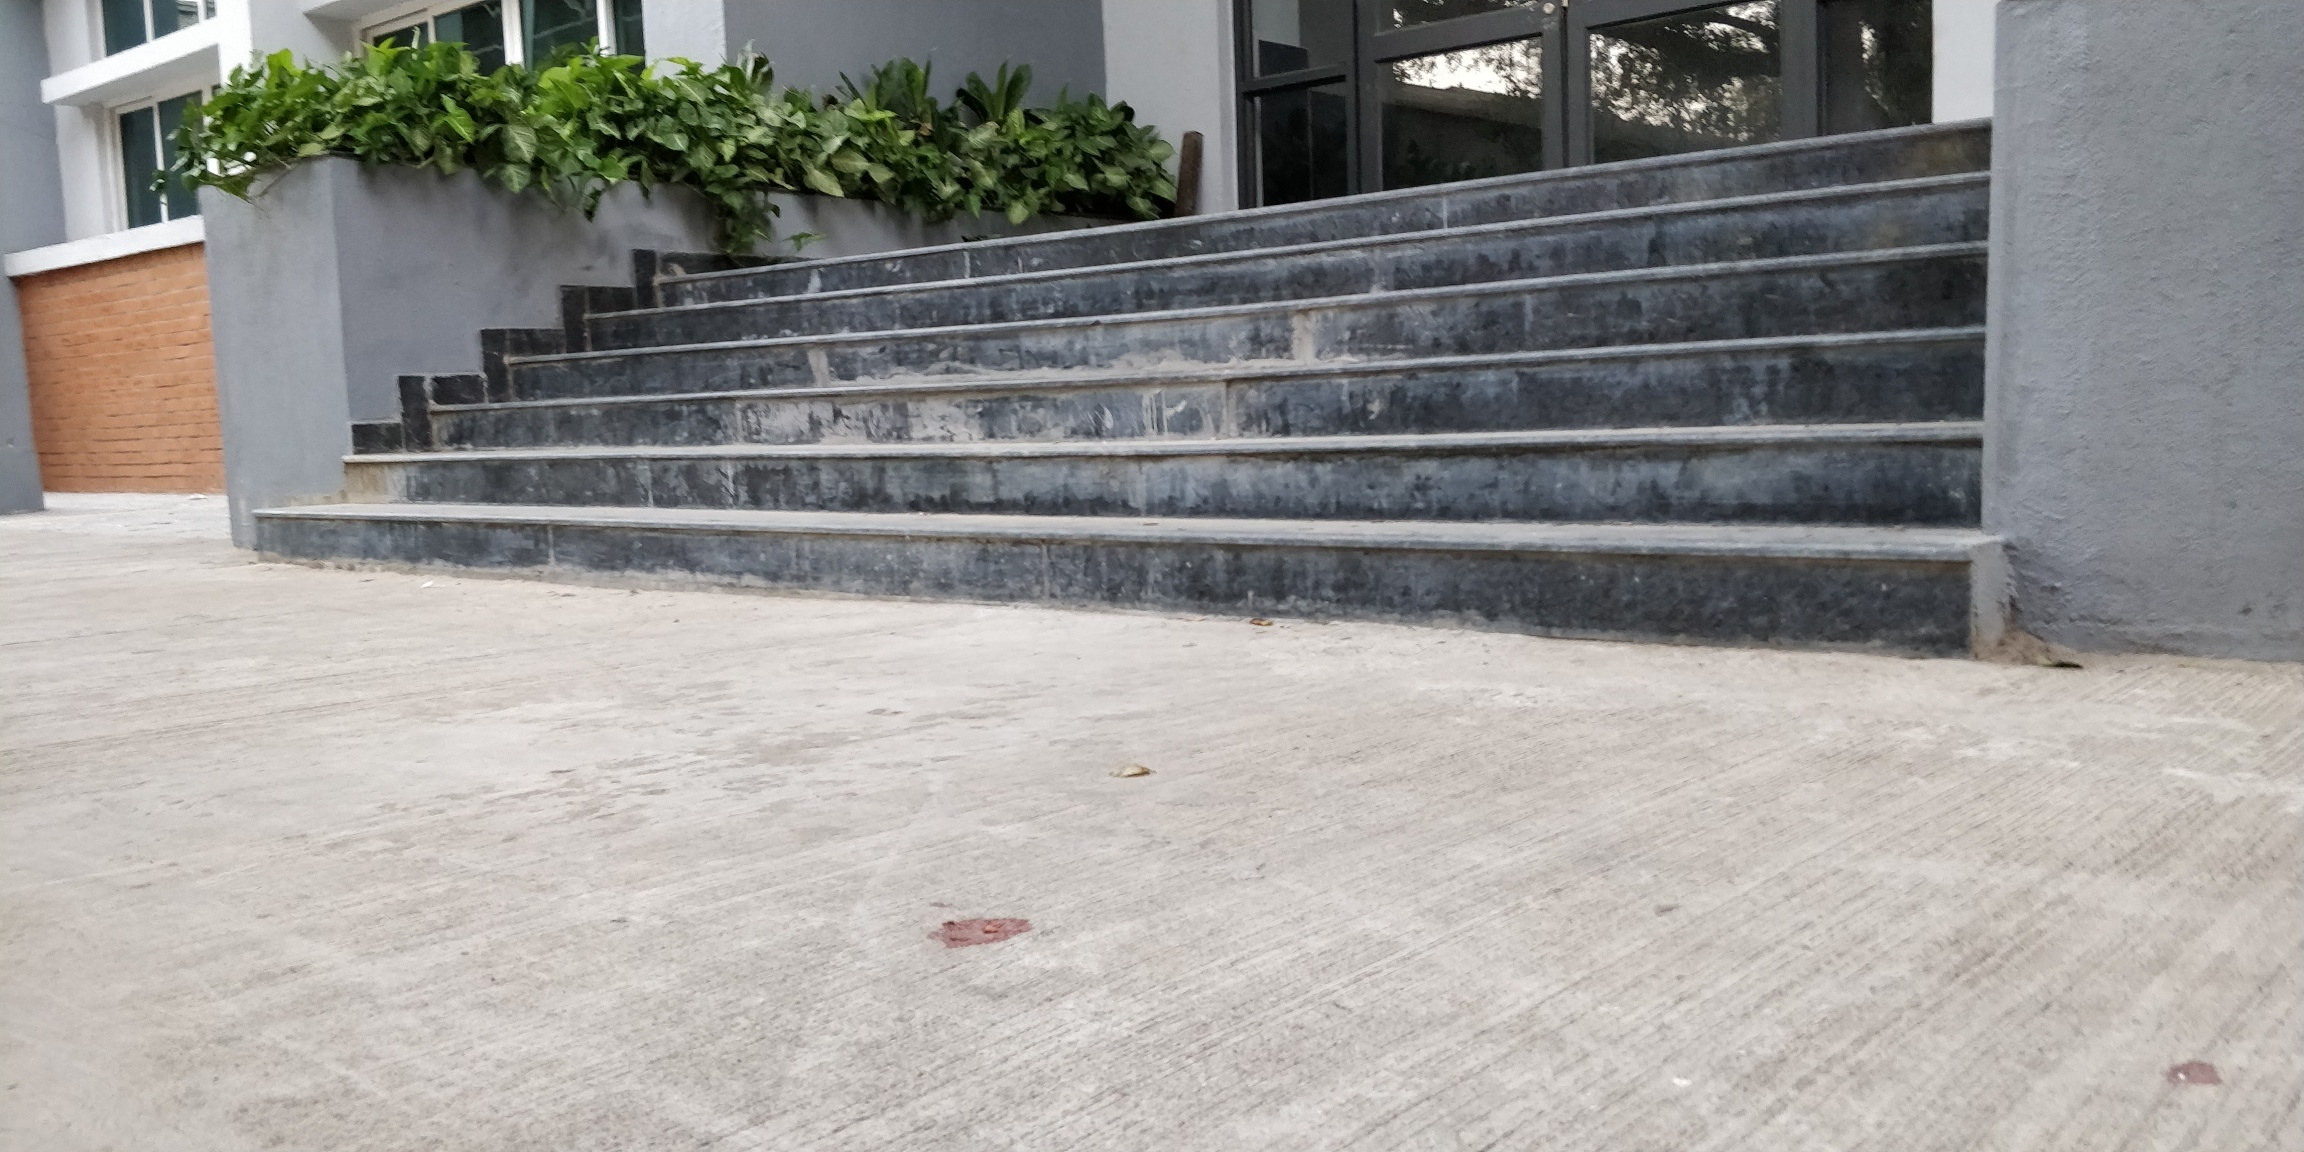stairs_up: (259, 109, 1987, 608)
